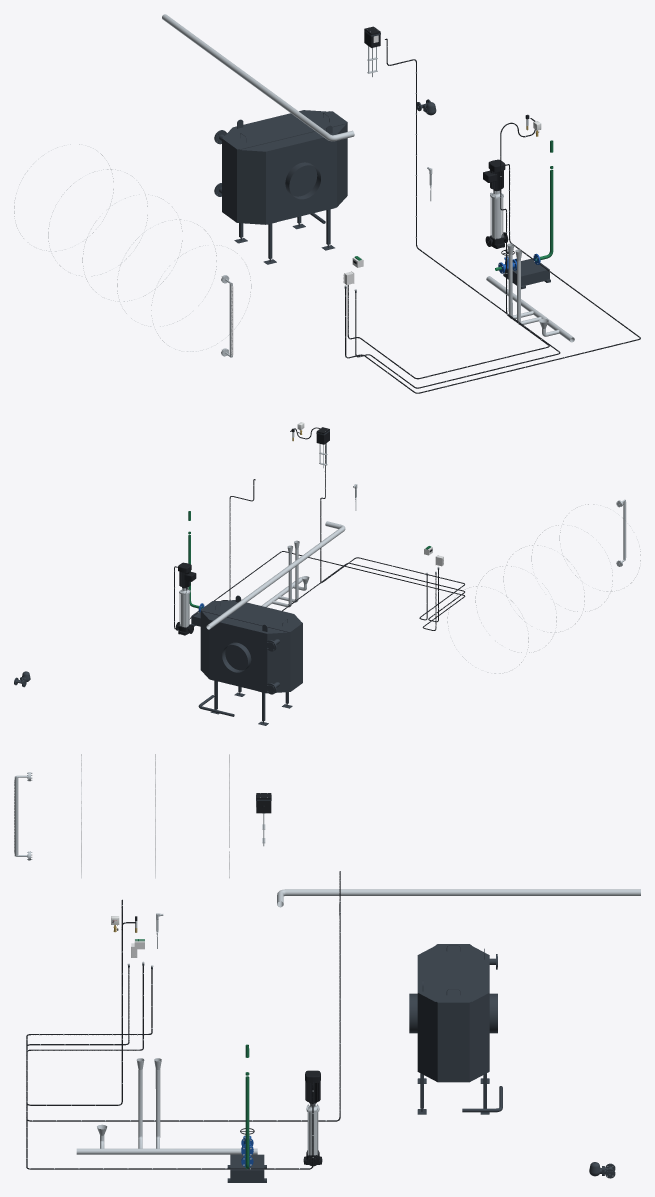
3 renders of one model, top to bottom at view 1: azimuth 30°, elevation 25°; view 2: azimuth 150°, elevation 25°; view 3: azimuth 270°, elevation 25°, orthographic. The views are drawn at different scales.
Parts seen in each view (by area): view 1: EQS2-3000 CAD 0, EQS2-3000 CAD 3, EQS2-3000 CAD 1, safety_vent_2 / steel, local_open_drains / steel, mod_eco_drive_cable / black, wiring_pump_2 / black, wiring_pressure_switch_3 / black, deaerator_details / steel, pump_branch_1 / dark; view 2: EQS2-3000 CAD 0, EQS2-3000 CAD 3, EQS2-3000 CAD 2, safety_vent_2 / steel, local_open_drains / steel, mod_eco_drive_cable / black, wiring_pressure_switch_3 / black, wiring_pump_2 / black, deaerator_details / steel; view 3: EQS2-3000 CAD 3, safety_vent_2 / steel, local_open_drains / steel, mod_eco_drive_cable / black, wiring_pump_2 / black, EQS2-3000 CAD 0, wiring_pressure_switch_3 / black, pump_branch_1 / dark, deaerator_details / steel.
Part boxes in pixels (x1,y1,x2,y2): EQS2-3000 CAD 0: (234, 134, 336, 264); EQS2-3000 CAD 3: (222, 110, 347, 222); EQS2-3000 CAD 1: (237, 150, 265, 224); safety_vent_2 / steel: (162, 14, 354, 141); local_open_drains / steel: (486, 243, 574, 342); mod_eco_drive_cable / black: (355, 38, 560, 388); wiring_pump_2 / black: (345, 164, 640, 393); wiring_pressure_switch_3 / black: (347, 118, 549, 379); deaerator_details / steel: (14, 144, 251, 357); pump_branch_1 / dark: (503, 258, 550, 289); EQS2-3000 CAD 0: (209, 620, 292, 725); EQS2-3000 CAD 3: (200, 595, 302, 691); EQS2-3000 CAD 2: (265, 632, 290, 694); safety_vent_2 / steel: (206, 521, 345, 629); local_open_drains / steel: (261, 540, 309, 607); mod_eco_drive_cable / black: (229, 479, 464, 622); wiring_pressure_switch_3 / black: (290, 427, 464, 620); wiring_pump_2 / black: (174, 551, 465, 630); deaerator_details / steel: (447, 499, 640, 673); EQS2-3000 CAD 3: (417, 944, 489, 1082); safety_vent_2 / steel: (277, 889, 640, 907); local_open_drains / steel: (76, 1058, 257, 1154); mod_eco_drive_cable / black: (26, 871, 340, 1121); wiring_pump_2 / black: (26, 965, 313, 1169); EQS2-3000 CAD 0: (409, 993, 497, 1114); wiring_pressure_switch_3 / black: (26, 899, 152, 1105); pump_branch_1 / dark: (227, 1154, 266, 1182); deaerator_details / steel: (14, 754, 229, 878).
Bounding box in the file's own units: 7.46 × 3.81 × 7.17.
